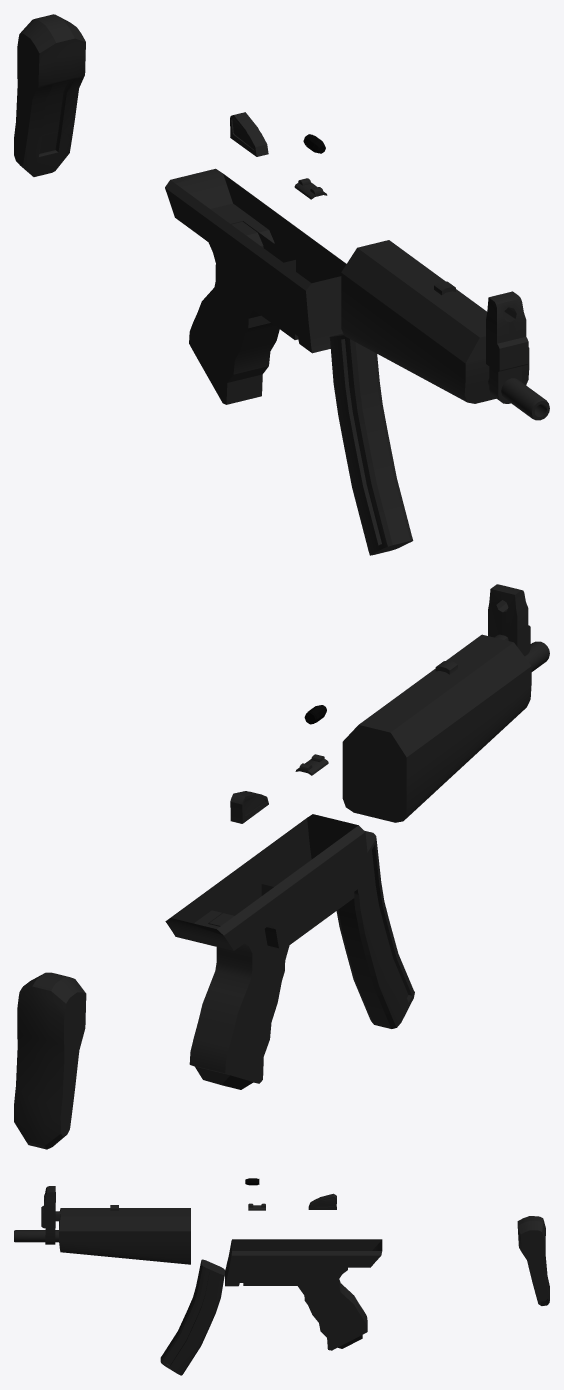
The model's file is MP5 LowPoly&Bullet.fbx.
3 renders of one model, top to bottom at view 1: azimuth 30°, elevation 25°; view 2: azimuth 150°, elevation 25°; view 3: azimuth 270°, elevation 25°, orthographic. The views are drawn at different scales.
Visible parts, largest first — view 1: MP5_Weapon; view 2: MP5_Weapon; view 3: MP5_Weapon.
Part boxes in pixels (x1,y1,x2,y2): MP5_Weapon: (14,14,549,555); MP5_Weapon: (14,584,549,1149); MP5_Weapon: (14,1186,549,1375).
Bounding box in the file's own units: 2.13 × 0.1769 × 0.8537.
